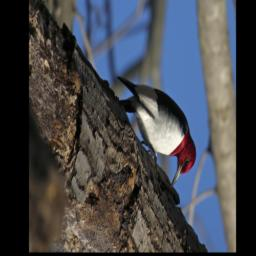Woodpecker: (111, 74, 201, 191)
